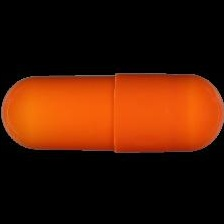0115-0533: (0, 0, 224, 224)
